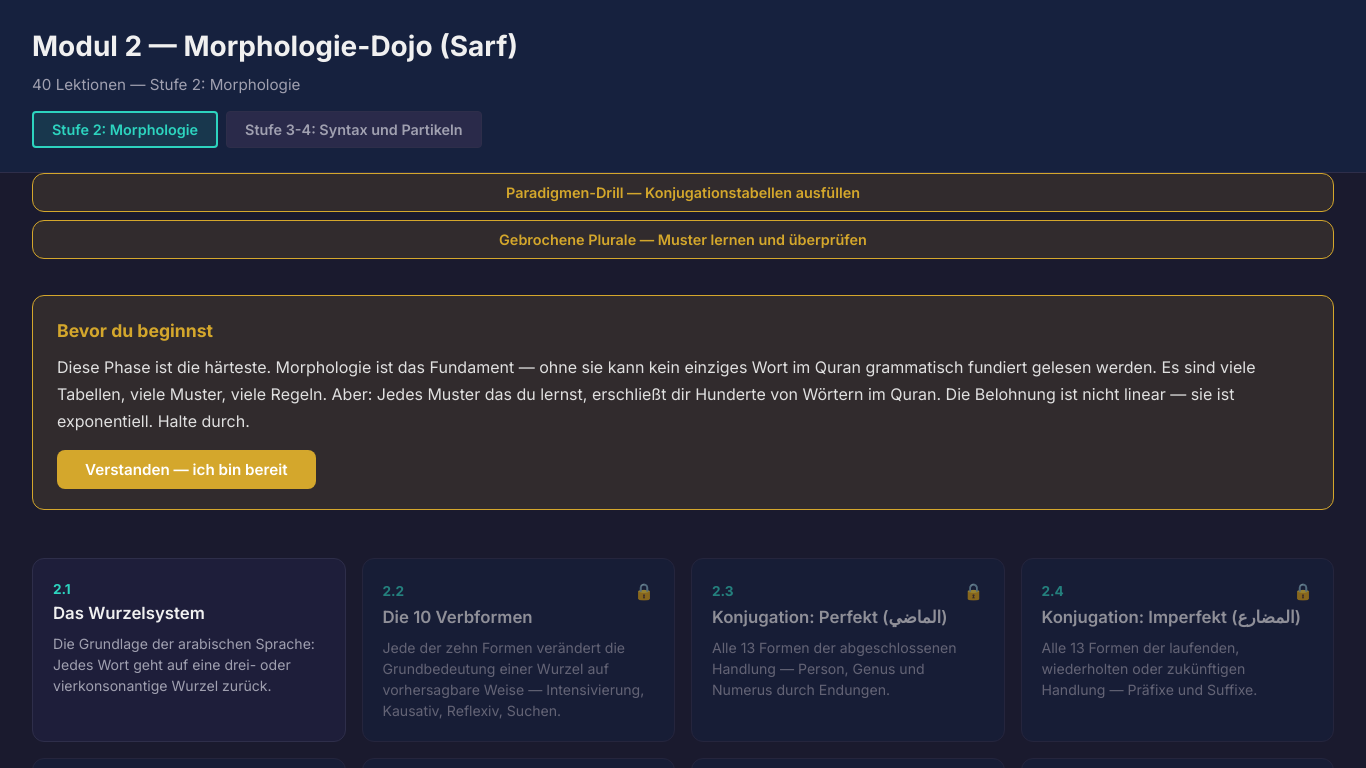
Test case: Module2 — Morphologie-Dojo interactions › opens ParadigmDrill view when the drill button is clicked
What coordinates should you click on to do the following:
click the button "Paradigmen-Drill — Konjugationstabellen ausfüllen"
I would click on:
 (683, 193)
Its box is [32, 173, 1334, 212].
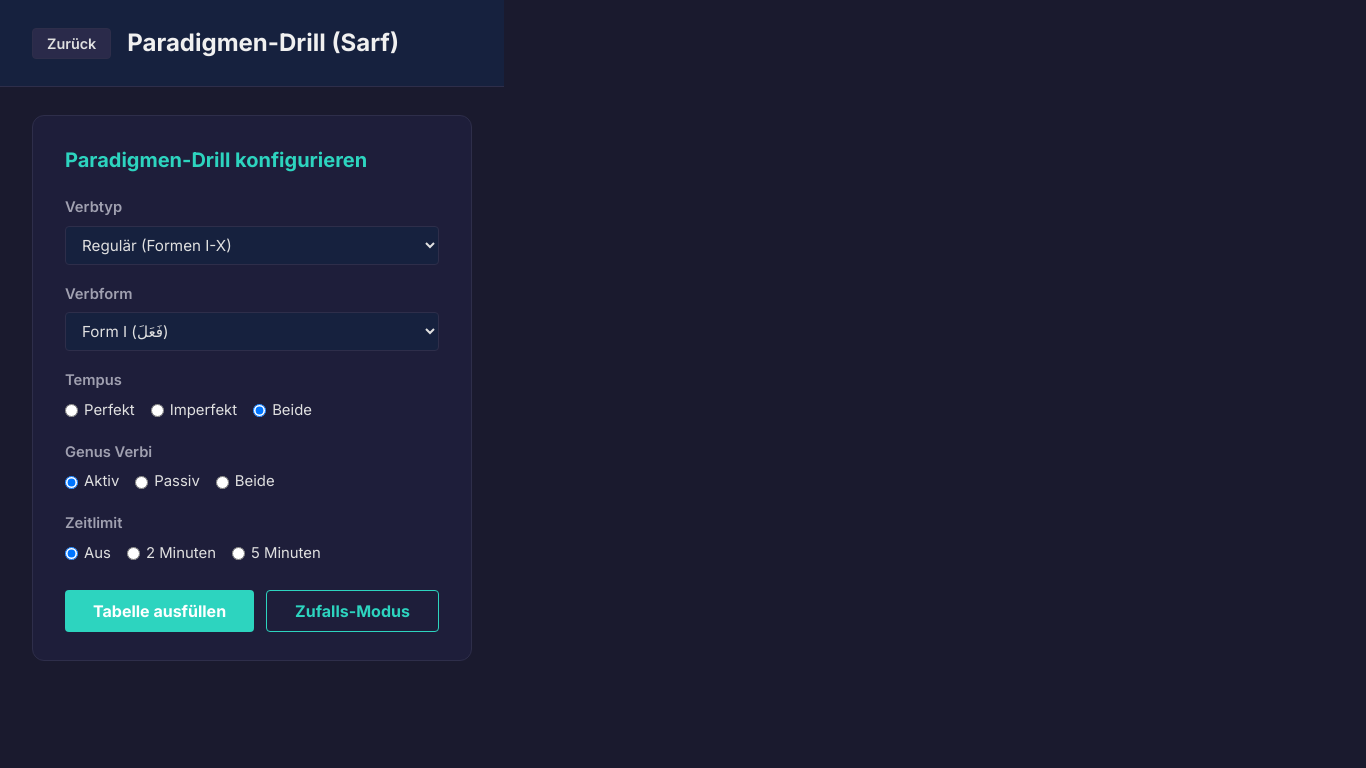
Result: the text "Das Wurzelsystem" is gone
